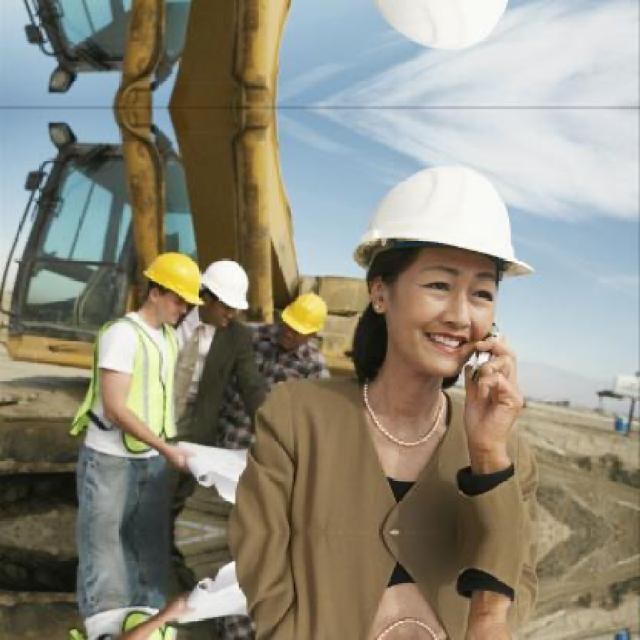con casco: (316, 175, 544, 418), (116, 250, 208, 330), (206, 255, 255, 347)
